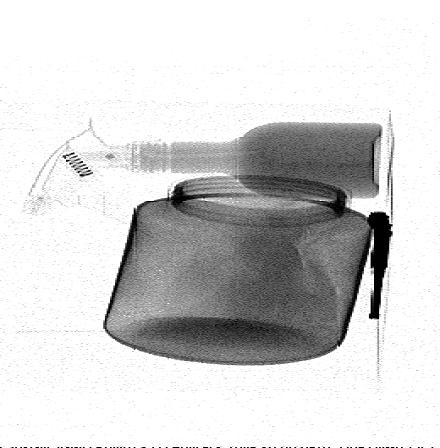Gun: (362, 211, 397, 321)
